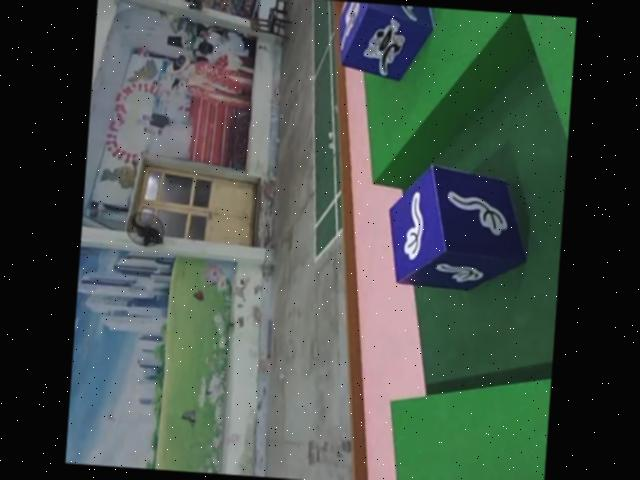R1 Blue: (335, 1, 436, 86)
R2 Real Blue: (386, 161, 536, 295)
